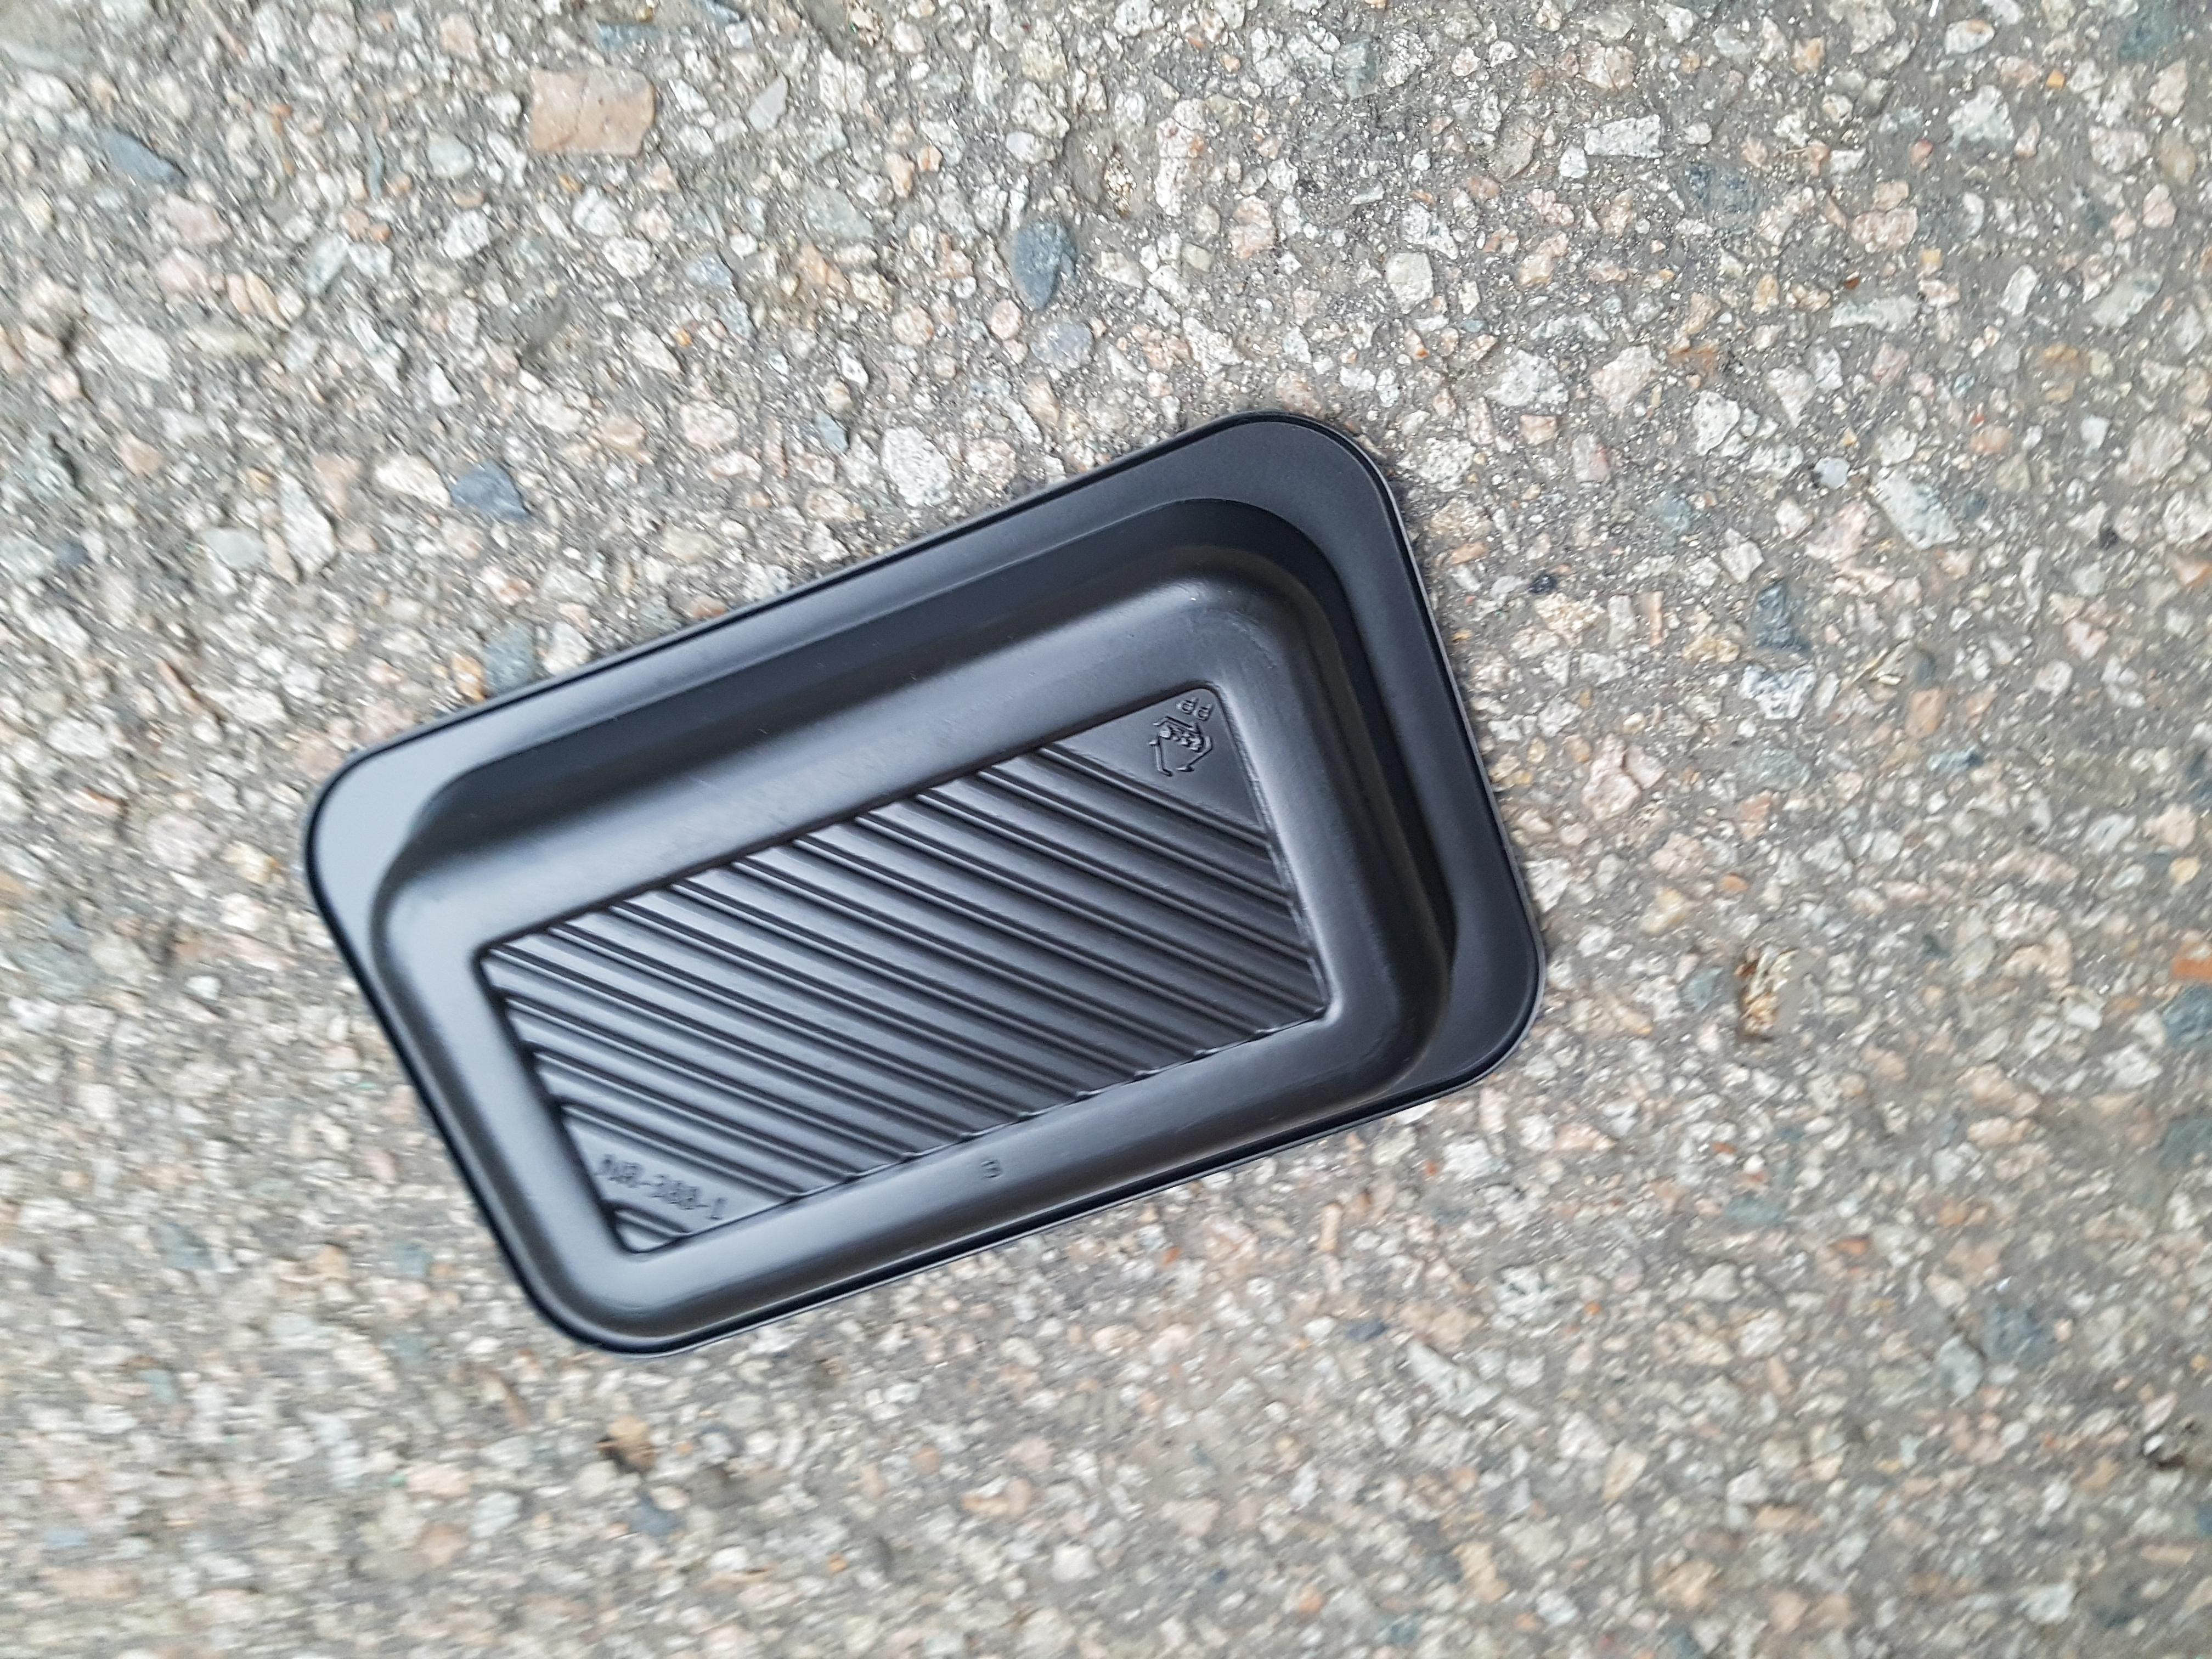bottle: (244, 373, 1571, 1419)
